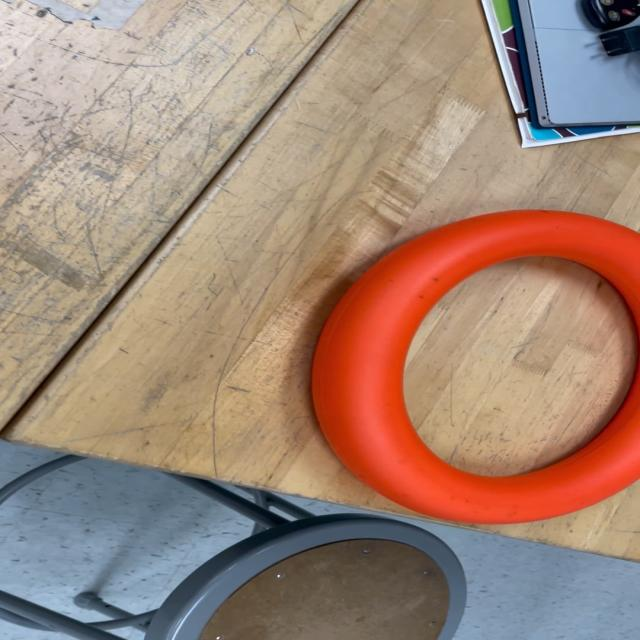note: (310, 211, 640, 523)
